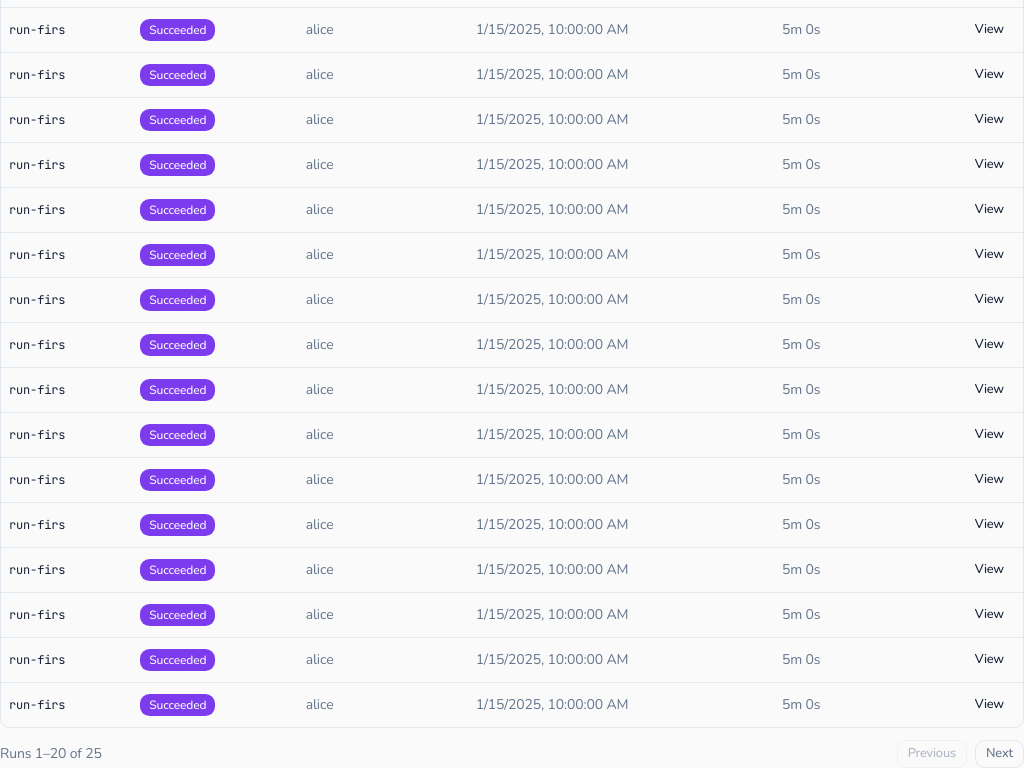
Test: RunList › status filter › resets the page offset to 0 when the filter is changed
This screenshot has width=1024, height=768.
(page scrolled)
Click the button "Next" at {"x": 1000, "y": 754}, box [975,740,1023,767]
(page scrolled)
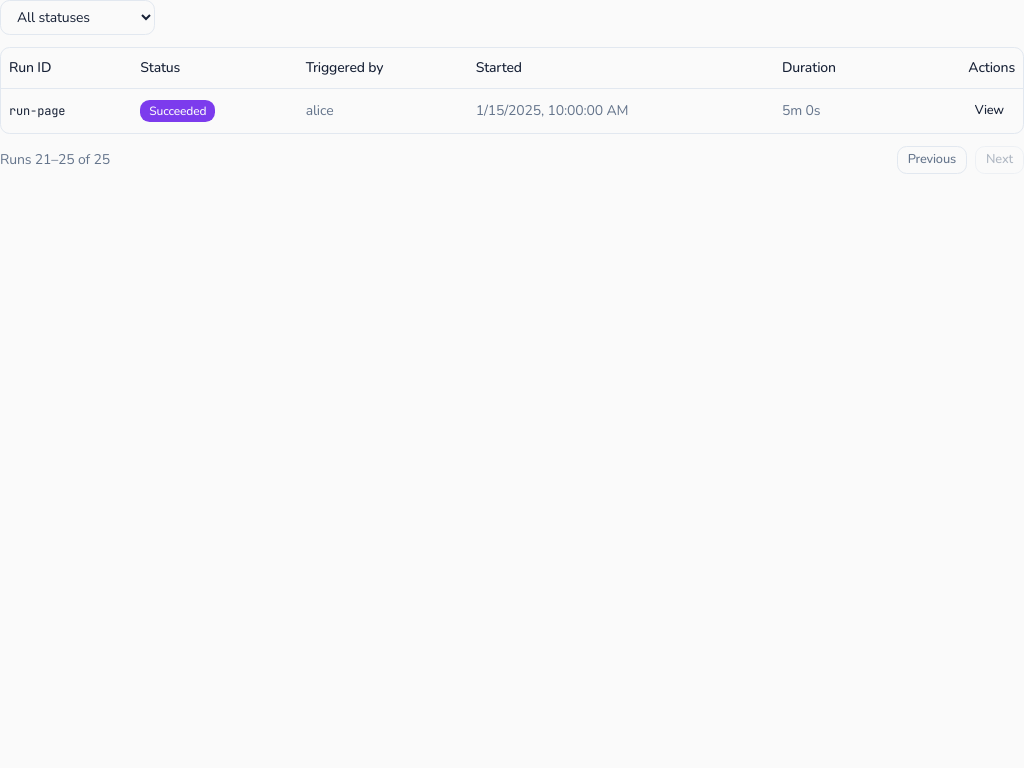
Now the text "Runs 21–25 of 25" is shown, box [0,150,110,170]
// Change the filter — should reset to page 1.
Select "Running" in the dropdown named "Filter runs by status" at {"x": 78, "y": 18}, box [0,0,155,35]
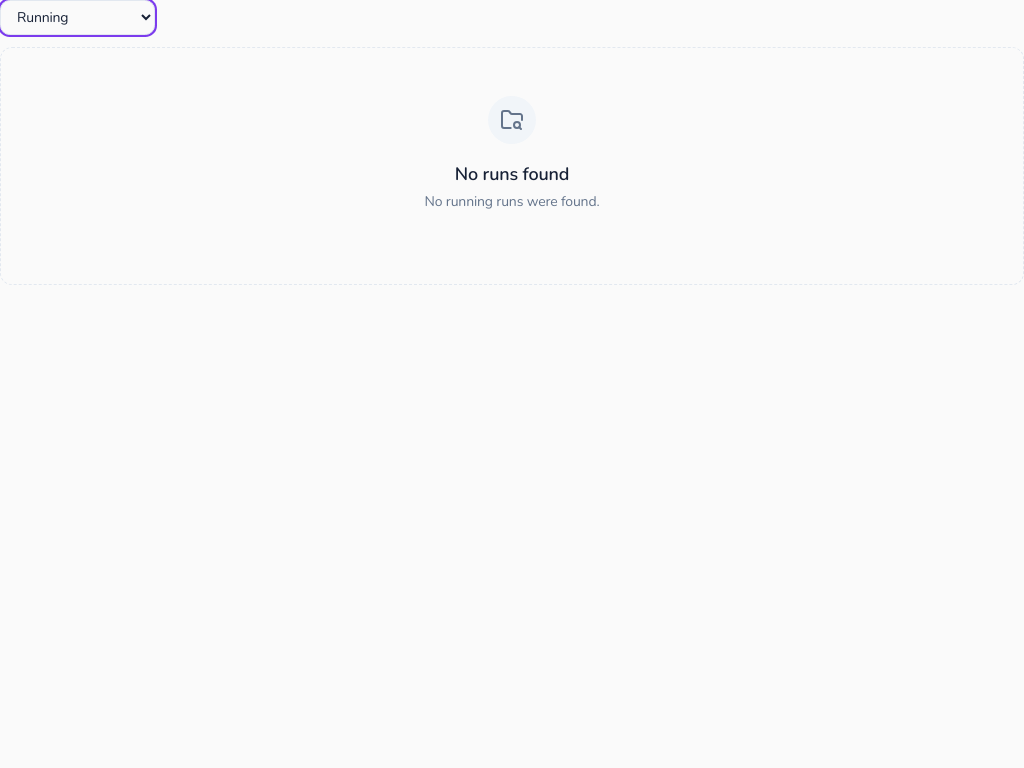
Now the text "Runs 21" is gone
